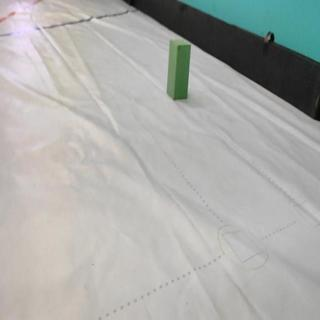greenbox: (165, 39, 192, 100)
